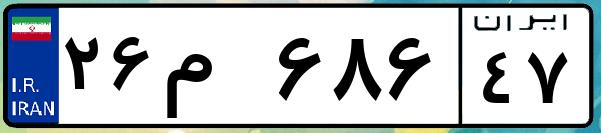2: (57, 26, 110, 100)
4: (475, 38, 525, 113)
6: (270, 28, 330, 110), (385, 28, 445, 110), (110, 28, 158, 98)
7: (525, 38, 570, 115)
8: (330, 28, 385, 110)
م: (158, 20, 270, 120)
